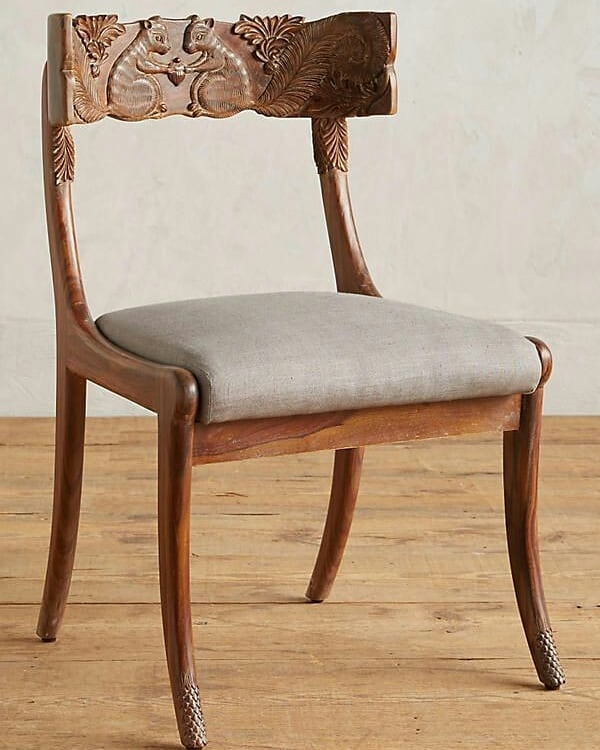Carving Chair: (43, 22, 561, 747)
